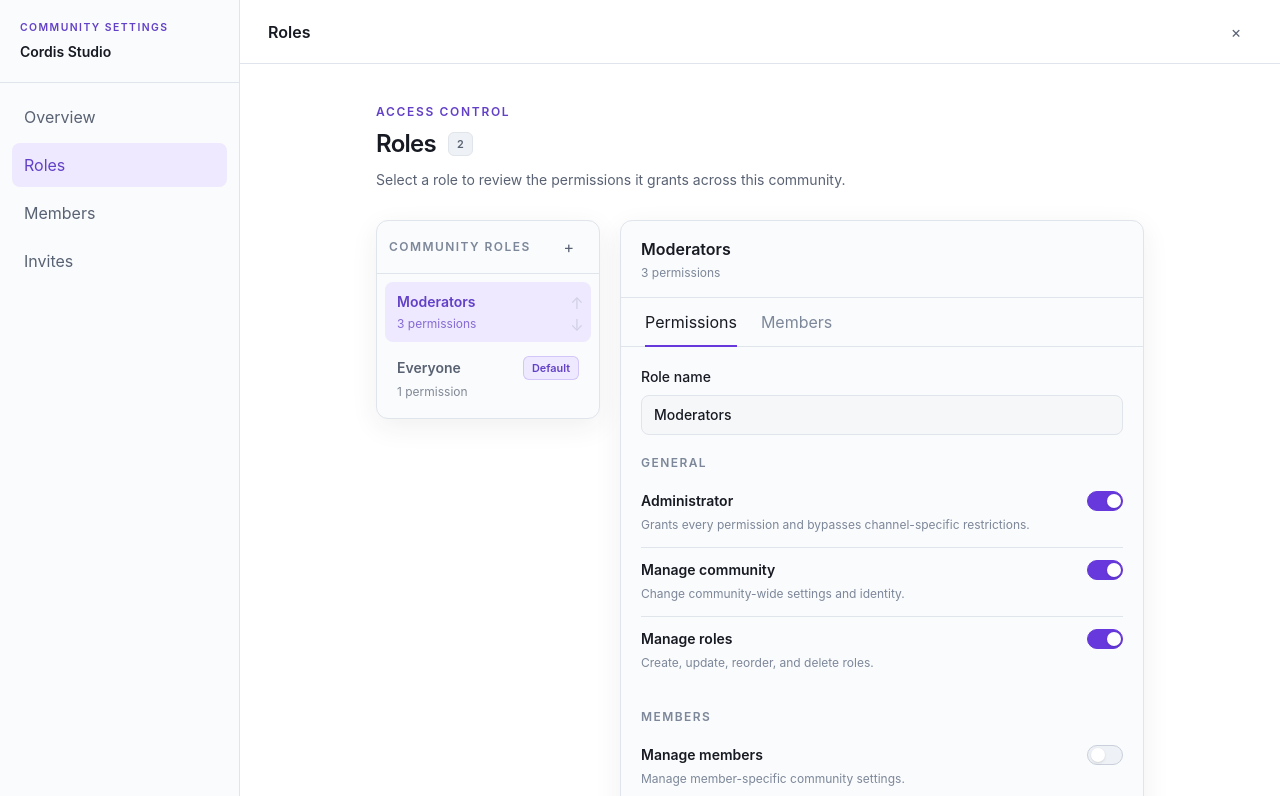
Test: GuildSettingsPage › renders a two-pane role list and switches the selected permissions
The width and height of the screenshot is (1280, 796).
Expected: the button with aria-label "Select role Moderators" shows "3 permissions", [385,282,563,342]
Expected: the switch named "Administrator" is checked, [1087,491,1123,511]
Click the button with aria-label "Select role Everyone": (488, 378) [385,346,591,410]
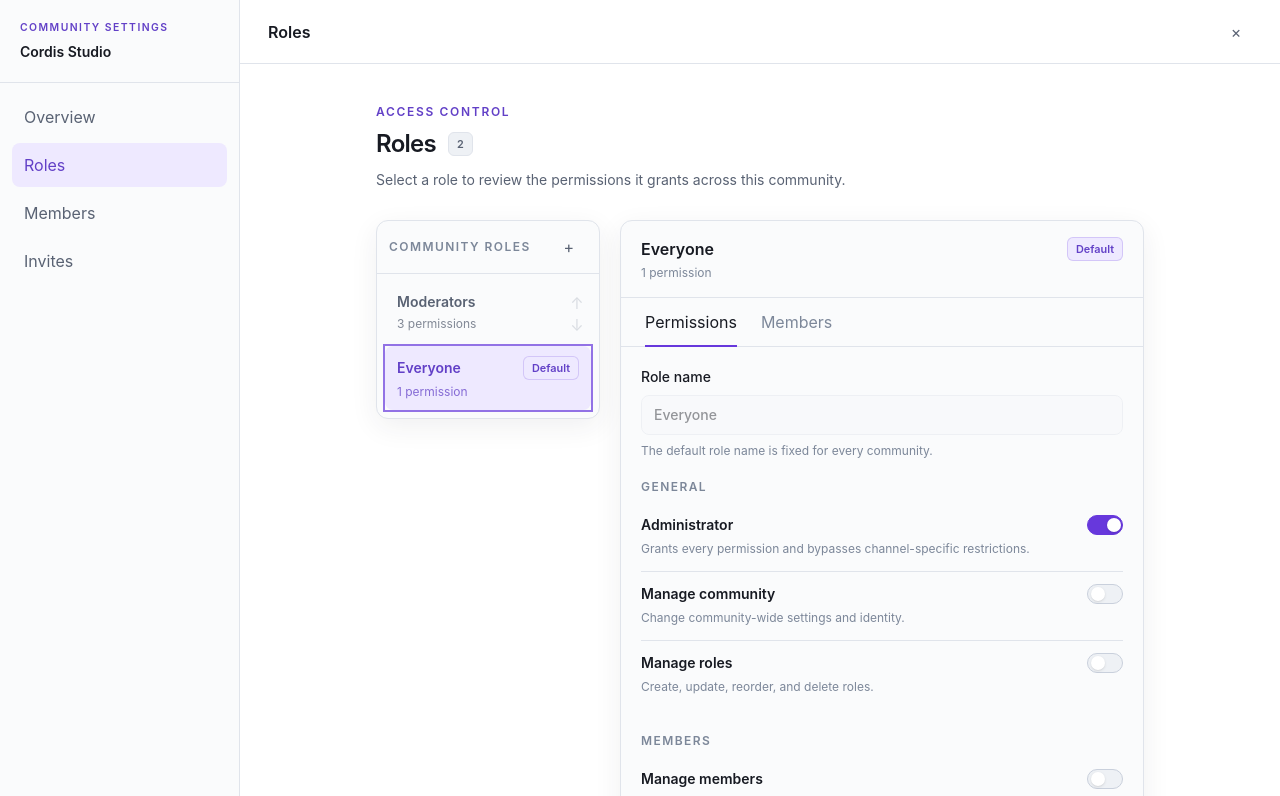
Expected: the switch named "Administrator" is checked, [1087,515,1123,535]
Expected: the switch named "Manage community" is not checked, [1087,584,1123,604]
